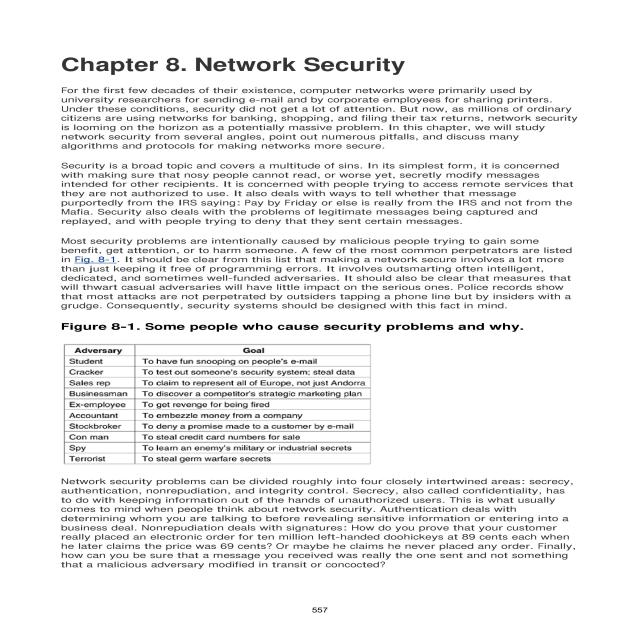diagram: (57, 321, 507, 459)
